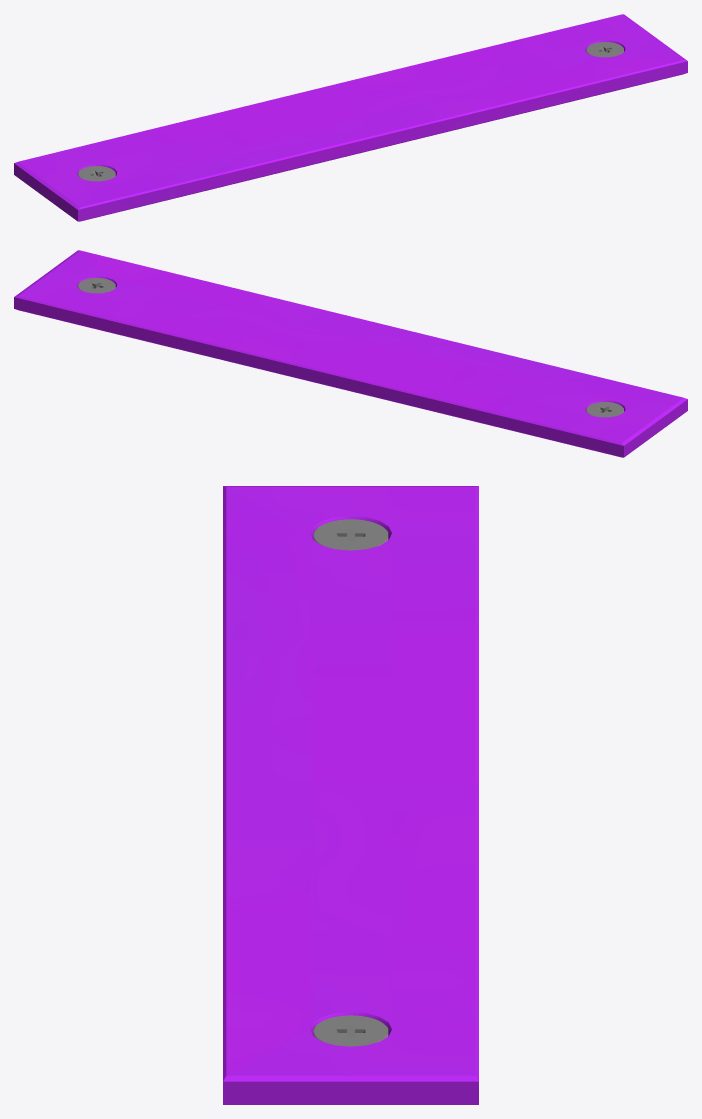
Rendered from BoltedPlankPink.fbx.
The picture shows the model from 3 angles, top to bottom: view 1: azimuth 30°, elevation 25°; view 2: azimuth 150°, elevation 25°; view 3: azimuth 270°, elevation 25°; orthographic projection. The views are drawn at different scales.
Visible parts, largest first — view 1: Cube, Cube.001; view 2: Cube, Cube.001; view 3: Cube, Cube.001.
Part boxes in pixels (x1,y1,x2,y2): Cube: (14, 14, 687, 221); Cube.001: (78, 42, 623, 181); Cube: (14, 250, 687, 457); Cube.001: (78, 278, 623, 417); Cube: (223, 486, 478, 1104); Cube.001: (313, 519, 388, 1046).
Size of the model in its own units: 21.97 by 0.4885 by 3.99.
